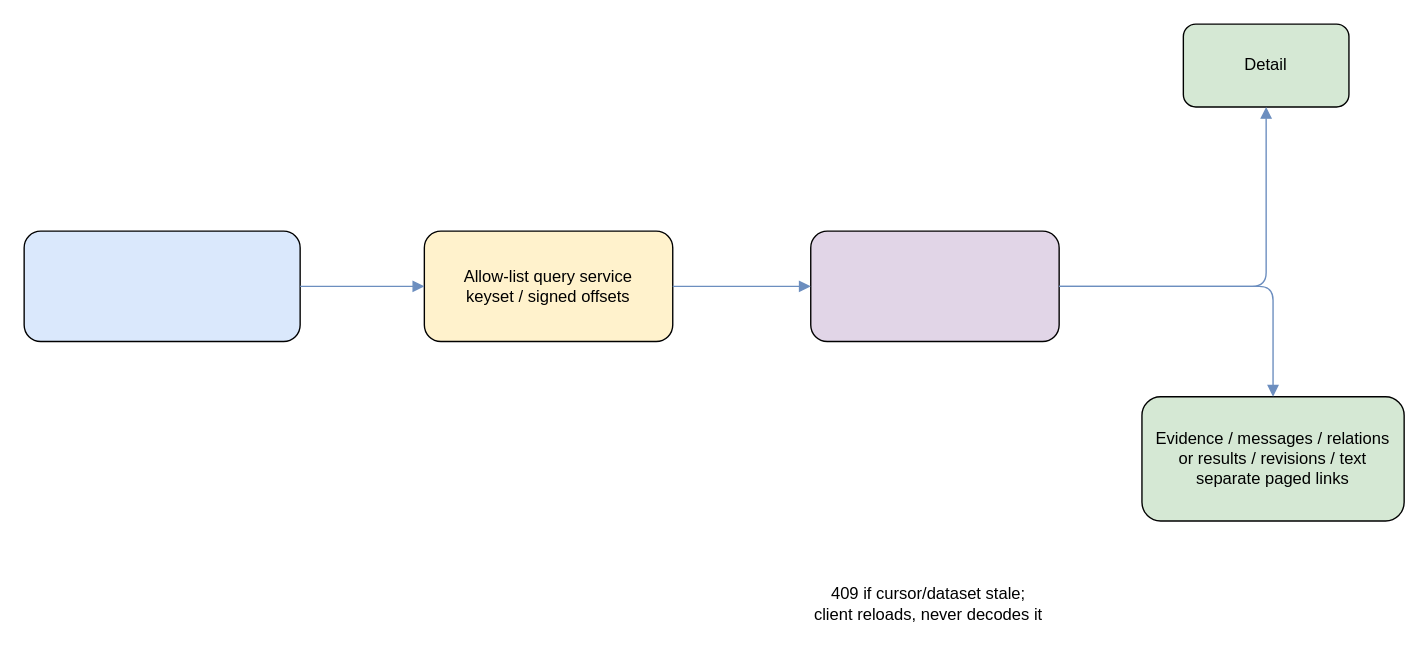
Image size: 1428x656. Some labels were removed from this diagram. The shapes that lost their labels are listed below. From the top down, each one's centre as x and y in pixels, then its label:
At (161,286): "Public entity/message list filters + opaque cursor + dataset".
At (934,286): "Current generation / historical reconstruction rules".
